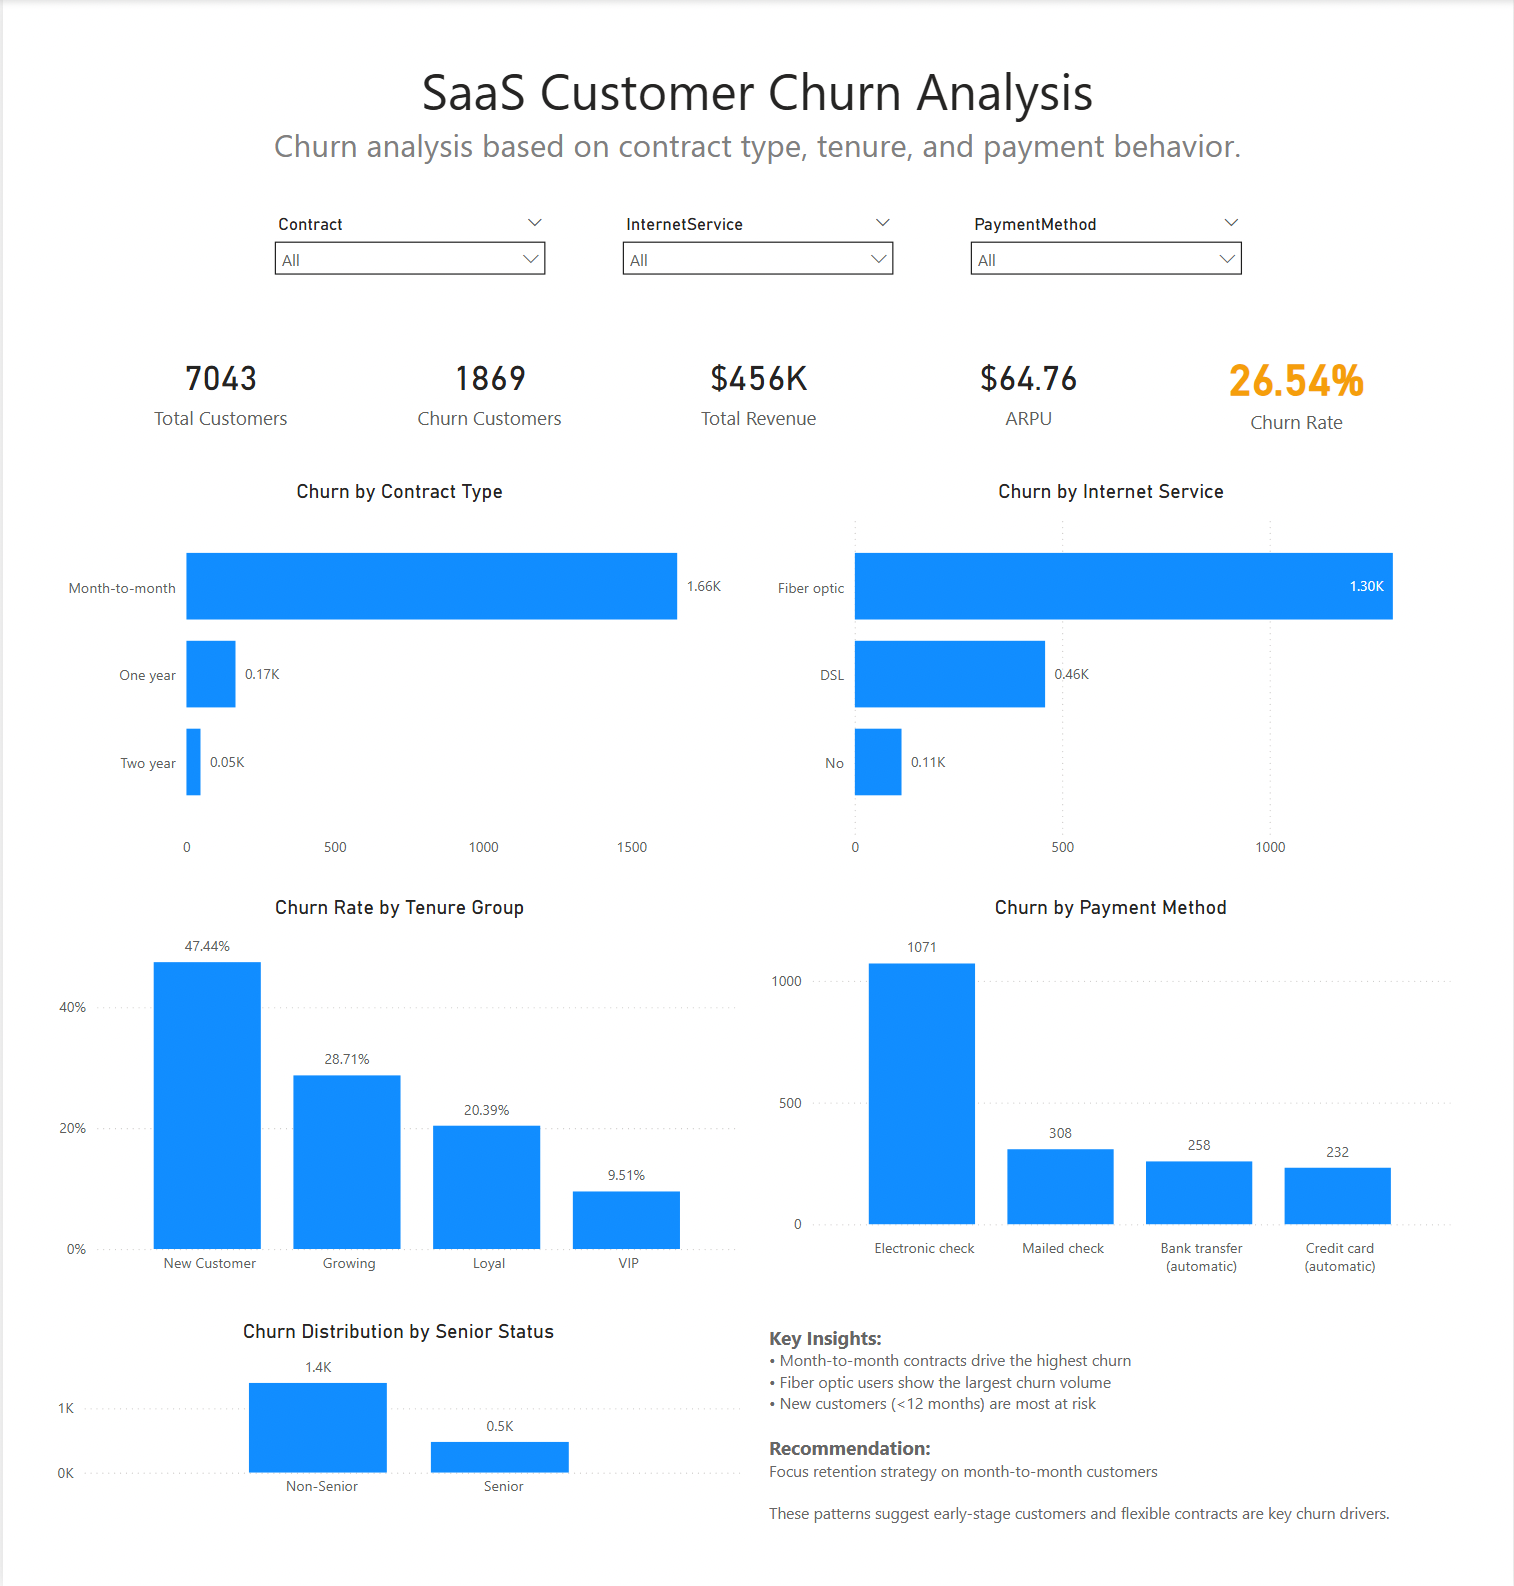

This screenshot's page, from the dashboard's own definition file:
{"tool":"powerbi","page":{"name":"Page 1","canvas":[1280,1350],"ordinal":0},"visuals":[{"type":"textbox","box":[76.8,44.2,1127,119],"z":0},{"type":"card","fields":{"Values":["measure_table.Total Customers"]},"box":[74.8,276.3,220,110],"z":0,"group":"g1"},{"type":"clusteredBarChart","title":"Churn by Contract Type","fields":{"Category":["fact_customers.Contract"],"Y":["measure_table.Churn Customers"]},"box":[42,408.7,588,329.3],"z":0},{"type":"group","id":"g1","title":"Group 1","box":[74.8,276.3,1132,110],"z":1000},{"type":"clusteredBarChart","title":"Churn by Internet Service","fields":{"Category":["fact_customers.InternetService"],"Y":["measure_table.Churn Customers"]},"box":[645.3,408.8,587.3,329.3],"z":1000},{"type":"card","fields":{"Values":["measure_table.Churn Customers"]},"box":[302.5,276.5,221.3,109.3],"z":2000,"group":"g1"},{"type":"clusteredColumnChart","title":"Churn Rate by Tenure Group","fields":{"Category":["fact_customers.Tenure Group"],"Y":["measure_table.Churn Rate"]},"box":[42,762,588,329.3],"z":2000},{"type":"clusteredColumnChart","title":"Churn by Payment Method","fields":{"Category":["fact_customers.PaymentMethod"],"Y":["measure_table.Churn Customers"]},"box":[646,762,586.7,329.3],"z":3000},{"type":"textbox","box":[645,1119,588,200],"z":3000},{"type":"card","fields":{"Values":["measure_table.Churn Rate"]},"box":[986.8,276.5,220,109.3],"z":4000,"group":"g1"},{"type":"slicer","fields":{"Values":["fact_customers.Contract"]},"box":[221.1,177.7,249.6,80.6],"z":4001,"group":"g2"},{"type":"slicer","fields":{"Values":["fact_customers.InternetService"]},"box":[515.8,177.7,249.6,80.6],"z":4002,"group":"g2"},{"type":"slicer","fields":{"Values":["fact_customers.PaymentMethod"]},"box":[810.5,177.7,250,80],"z":4003,"group":"g2"},{"type":"group","id":"g2","title":"Group 3","box":[221.1,177.7,839.4,80.6],"z":4004},{"type":"clusteredColumnChart","title":"    Churn Distribution by Senior Status","fields":{"Y":["measure_table.Churn Customers"],"Category":["fact_customers.Senior Group"]},"box":[40.3,1121.3,589.4,159.4],"z":4006},{"type":"card","fields":{"Values":["measure_table.Total Revenue"]},"box":[531.5,276.5,220,109.3],"z":6000,"group":"g1"},{"type":"card","fields":{"Values":["measure_table.ARPU"]},"box":[759.1,276.5,220,109.3],"z":7000,"group":"g1"}]}

Visuals, with their boxes in screenshot pixels (x1, y1, x2, y2), scaled from the page's 1280x1350 canvas onto the 1514x1586 screenshot:
textbox: (x1=91, y1=52, x2=1424, y2=192)
card - measure_table.Total Customers: (x1=88, y1=325, x2=349, y2=454)
"Churn by Contract Type" clusteredBarChart: (x1=50, y1=480, x2=745, y2=867)
"Group 1" group: (x1=88, y1=325, x2=1427, y2=454)
"Churn by Internet Service" clusteredBarChart: (x1=763, y1=480, x2=1458, y2=867)
card - measure_table.Churn Customers: (x1=358, y1=325, x2=620, y2=453)
"Churn Rate by Tenure Group" clusteredColumnChart: (x1=50, y1=895, x2=745, y2=1282)
"Churn by Payment Method" clusteredColumnChart: (x1=764, y1=895, x2=1458, y2=1282)
textbox: (x1=763, y1=1315, x2=1458, y2=1550)
card - measure_table.Churn Rate: (x1=1167, y1=325, x2=1427, y2=453)
slicer - fact_customers.Contract: (x1=262, y1=209, x2=557, y2=303)
slicer - fact_customers.InternetService: (x1=610, y1=209, x2=905, y2=303)
slicer - fact_customers.PaymentMethod: (x1=959, y1=209, x2=1254, y2=303)
"Group 3" group: (x1=262, y1=209, x2=1254, y2=303)
"    Churn Distribution by Senior Status" clusteredColumnChart: (x1=48, y1=1317, x2=745, y2=1505)
card - measure_table.Total Revenue: (x1=629, y1=325, x2=889, y2=453)
card - measure_table.ARPU: (x1=898, y1=325, x2=1158, y2=453)
